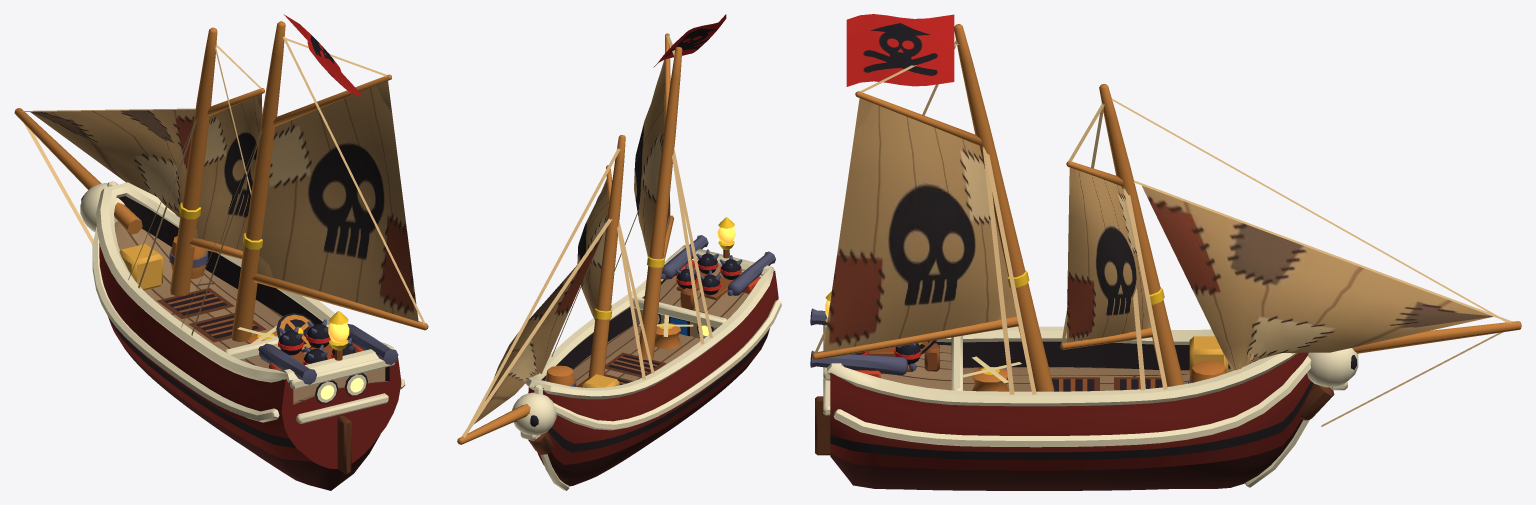
Rendered from brethren_runner.glb.
The picture shows the model from 3 angles, left to right: view 1: azimuth 30°, elevation 25°; view 2: azimuth 150°, elevation 25°; view 3: azimuth 270°, elevation 25°; orthographic projection. The views are drawn at different scales.
Visible parts, largest first — view 1: Hull, Sail1_0, Rigging, Jib, Sail0_0, Guns0, Flag; view 2: Hull, Rigging, Jib, Sail1_0, Sail0_0, Guns0, Flag; view 3: Hull, Sail1_0, Jib, Rigging, Sail0_0, Flag, Guns0.
Part boxes in pixels (x1=…): Hull: x1=80, y1=181, x2=405, y2=490; Sail1_0: x1=257, y1=81, x2=418, y2=321; Rigging: x1=14, y1=21, x2=428, y2=341; Jib: x1=30, y1=109, x2=195, y2=217; Sail0_0: x1=194, y1=94, x2=262, y2=251; Guns0: x1=258, y1=323, x2=398, y2=384; Flag: x1=283, y1=14, x2=363, y2=96; Hull: x1=512, y1=217, x2=781, y2=490; Rigging: x1=457, y1=33, x2=712, y2=444; Jib: x1=474, y1=233, x2=603, y2=423; Sail1_0: x1=634, y1=59, x2=670, y2=256; Sail0_0: x1=577, y1=179, x2=608, y2=319; Guns0: x1=661, y1=235, x2=775, y2=295; Flag: x1=653, y1=14, x2=726, y2=67; Hull: x1=815, y1=291, x2=1358, y2=490; Sail1_0: x1=823, y1=98, x2=1016, y2=351; Jib: x1=1142, y1=185, x2=1493, y2=370; Rigging: x1=812, y1=24, x2=1521, y2=426; Sail0_0: x1=1066, y1=168, x2=1151, y2=342; Flag: x1=846, y1=14, x2=954, y2=86; Guns0: x1=810, y1=308, x2=916, y2=377.
Bounding box in the file's own units: 0.7037 × 1.91 × 2.59.
8 materials, 4 textured.
